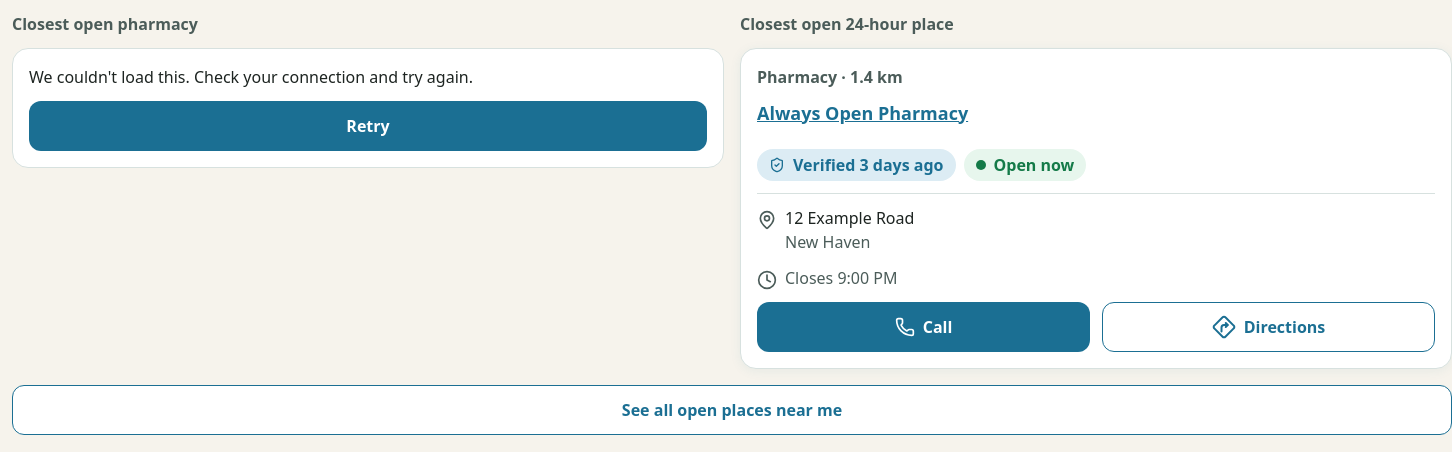
Test: NearbySuggestions never shows the same place twice › (h) Retry on the pharmacy card works out the pair again
Expected: the link "Always Open Pharmacy" is shown, [757,101,968,125]
What coordinates should you click on to do the following:
click the button "Retry"
I would click on:
 (368, 126)
Its box is [29,101,707,151].
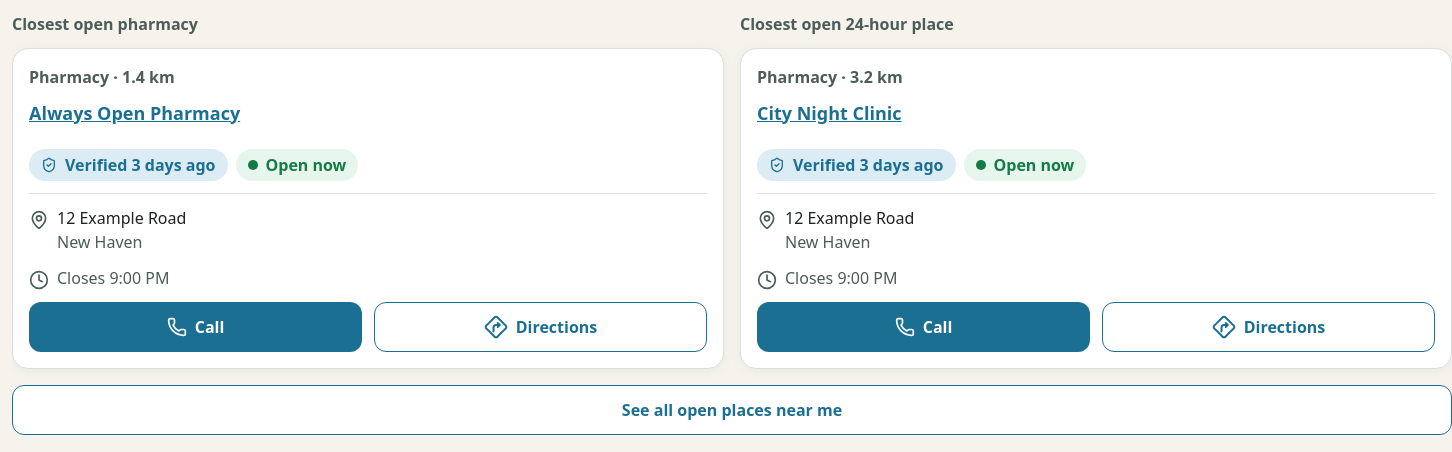
Expected: the link "Always Open Pharmacy" is shown, [29,101,240,125]
Now the link "City Night Clinic" is shown, box [757,101,902,125]
